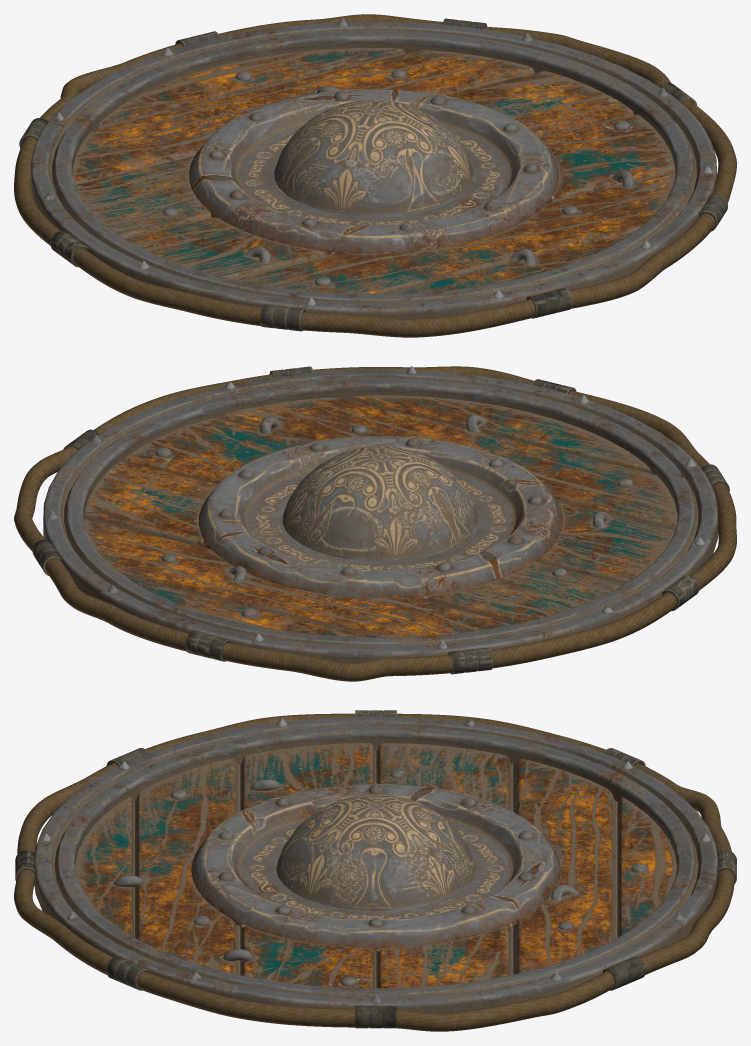
Rendered from shield.glb.
3 views of the same model, one above another, from view 1: azimuth 30°, elevation 25°; view 2: azimuth 150°, elevation 25°; view 3: azimuth 270°, elevation 25° (orthographic).
Parts seen in each view (by area): view 1: Shield.001; view 2: Shield.001; view 3: Shield.001.
Part boxes in pixels (<box>): Shield.001: <box>14,14,736,337</box>; Shield.001: <box>14,366,736,681</box>; Shield.001: <box>14,710,736,1031</box>.
Size of the model in its own units: 0.8805 by 0.1029 by 0.8725.
Materials: 1 (1 with a texture image).
